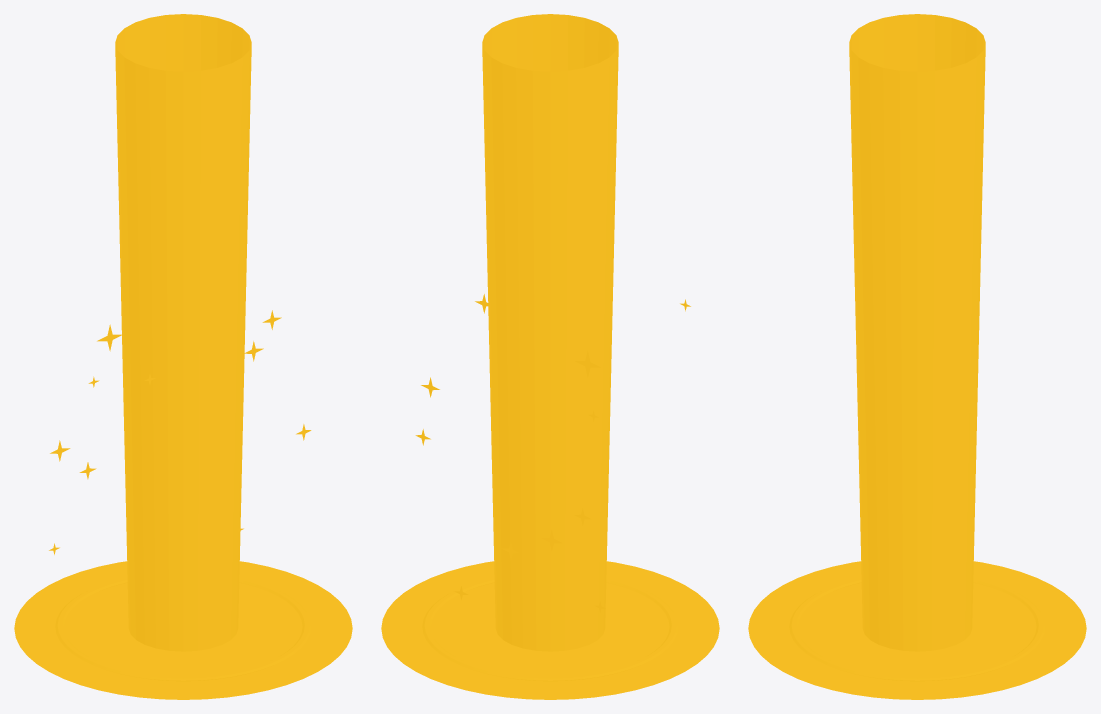
Rendered from rarity_fx.glb.
3 renders of one model, left to right at view 1: azimuth 30°, elevation 25°; view 2: azimuth 150°, elevation 25°; view 3: azimuth 270°, elevation 25°, orthographic.
Visible parts, largest first — view 1: FX_Beam, FX_GroundGlow, FX_GroundRing, FX_Sparkles; view 2: FX_Beam, FX_GroundGlow, FX_GroundRing, FX_Sparkles; view 3: FX_Beam, FX_GroundGlow, FX_GroundRing.
Boxes of the visible parts, <box> form: FX_Beam: <box>115,14,251,651</box>; FX_GroundGlow: <box>14,561,352,699</box>; FX_GroundRing: <box>55,578,311,681</box>; FX_Sparkles: <box>49,310,311,554</box>; FX_Beam: <box>482,14,618,651</box>; FX_GroundGlow: <box>381,561,719,699</box>; FX_GroundRing: <box>422,578,678,681</box>; FX_Sparkles: <box>415,294,690,612</box>; FX_Beam: <box>849,14,985,651</box>; FX_GroundGlow: <box>748,561,1086,699</box>; FX_GroundRing: <box>789,578,1045,681</box>.
Bounding box in the file's own units: 2.6 × 5 × 2.6.
